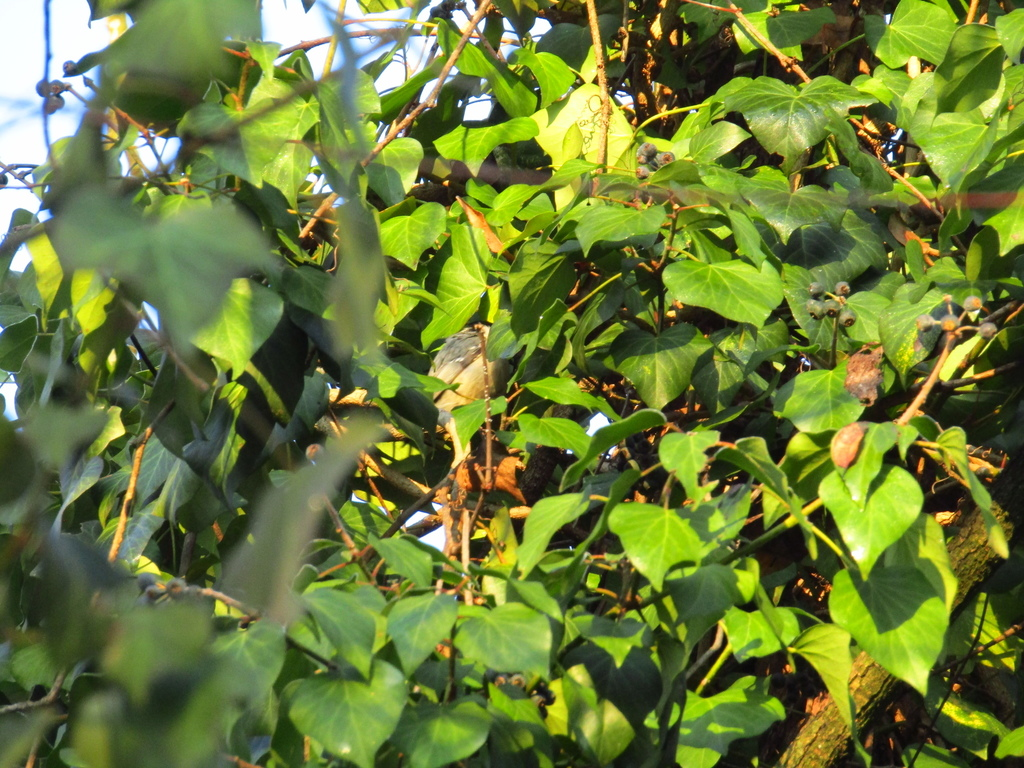Periparus_ater: (425, 320, 517, 467)
